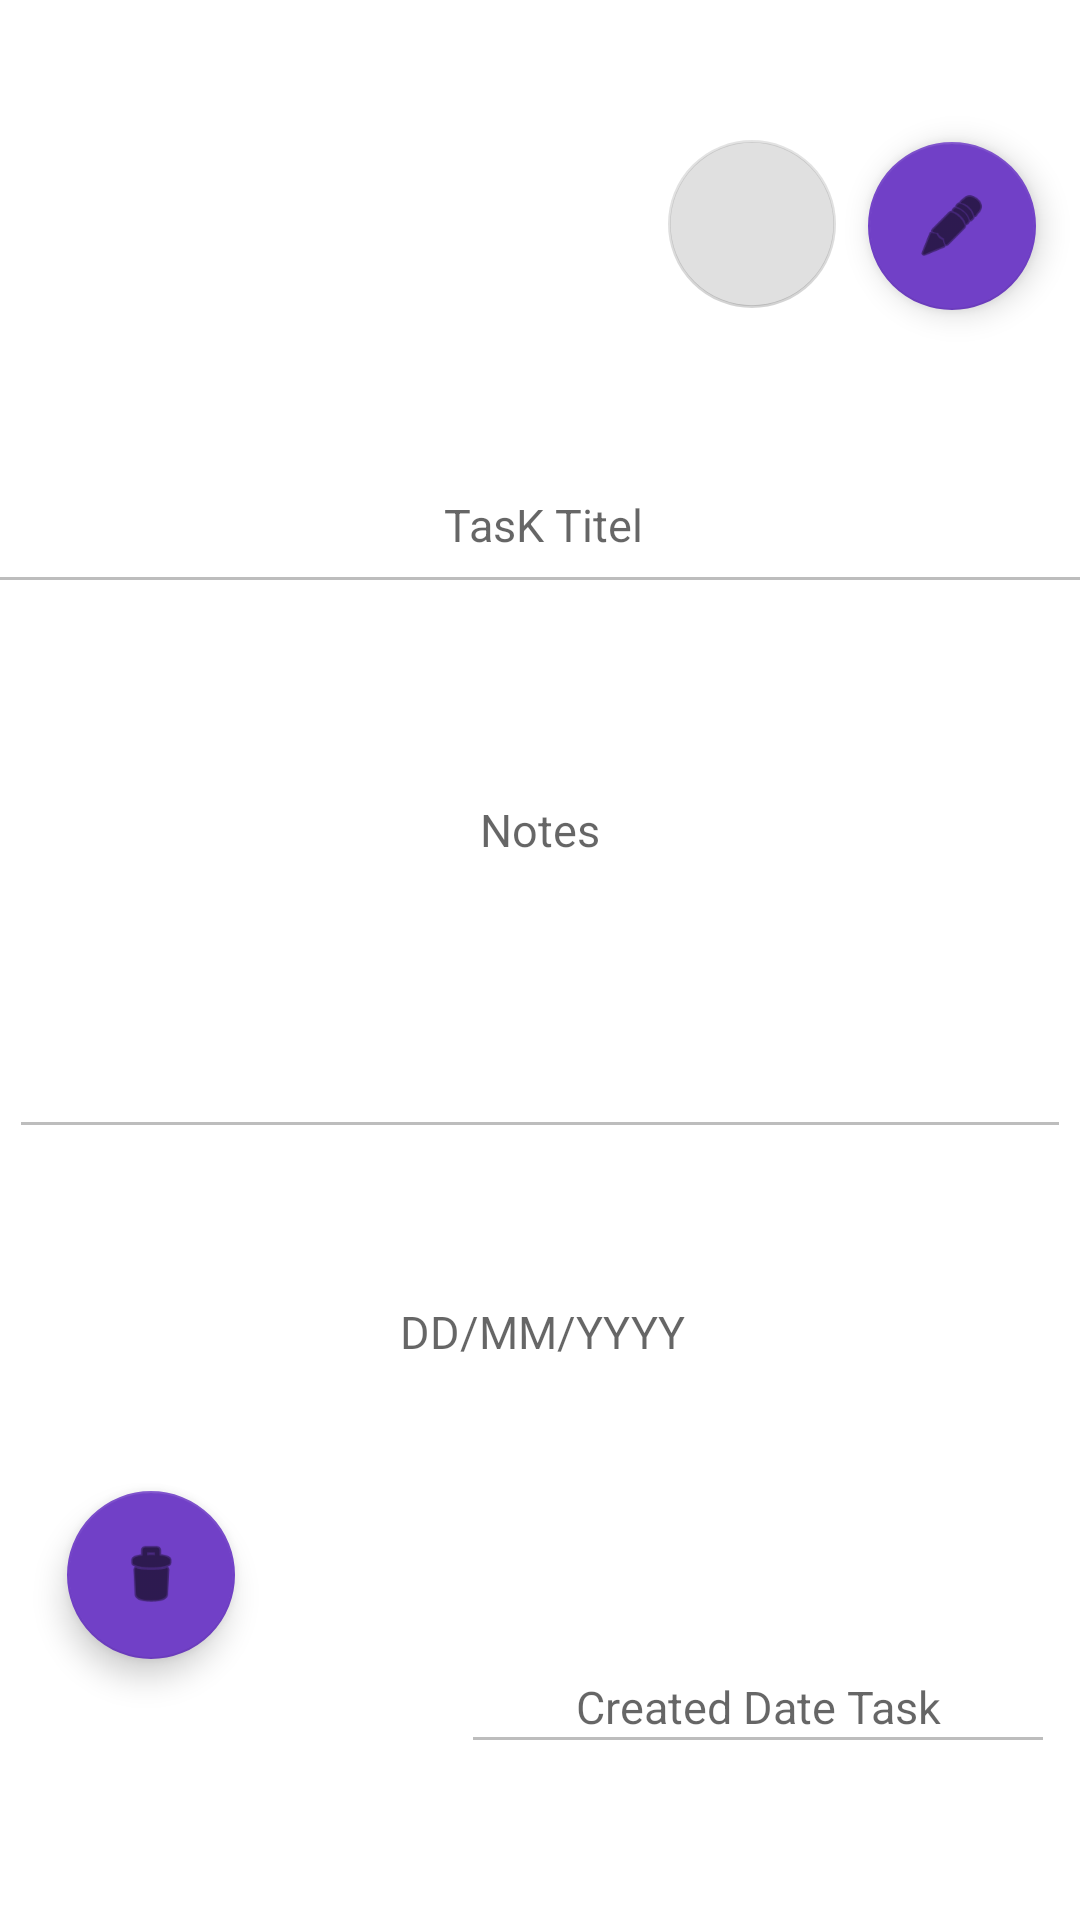

Screen size 1080x1920. Icon name, then its center in pixels as (x,y):
delete: (151,1575)
edit: (952,226)
